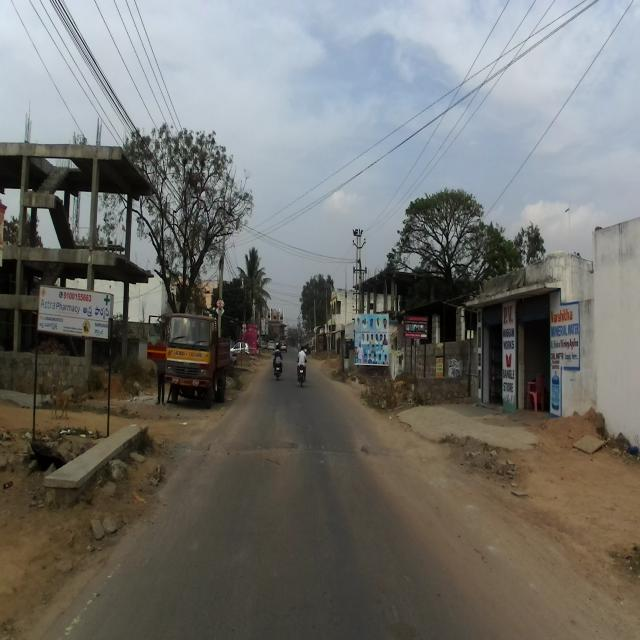sign board ahead at: (31, 277, 122, 355)
stones ahead at: (44, 411, 160, 539)
truck ahead at: (160, 307, 235, 408)
